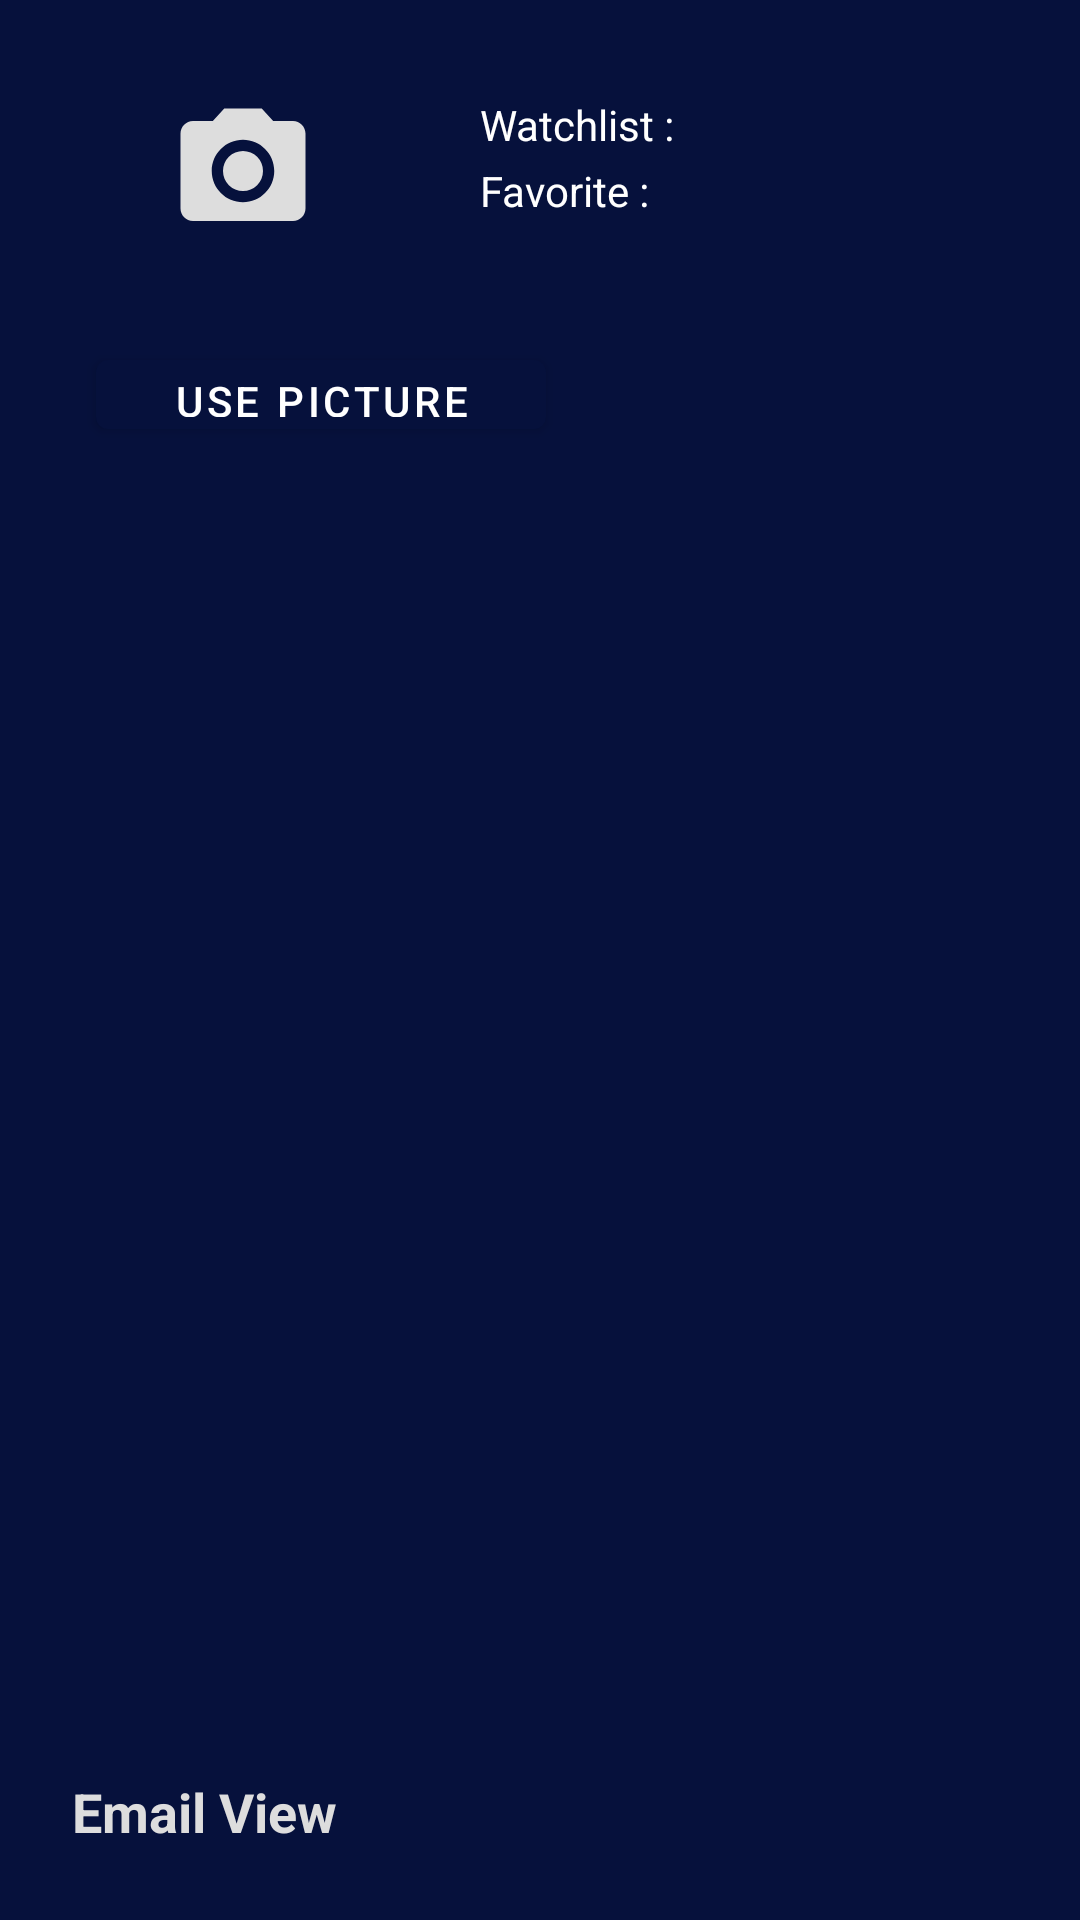

Icons on this 1080 x 1920 Android screen, each with the point to tap as (x,y):
camera: (243,164)
